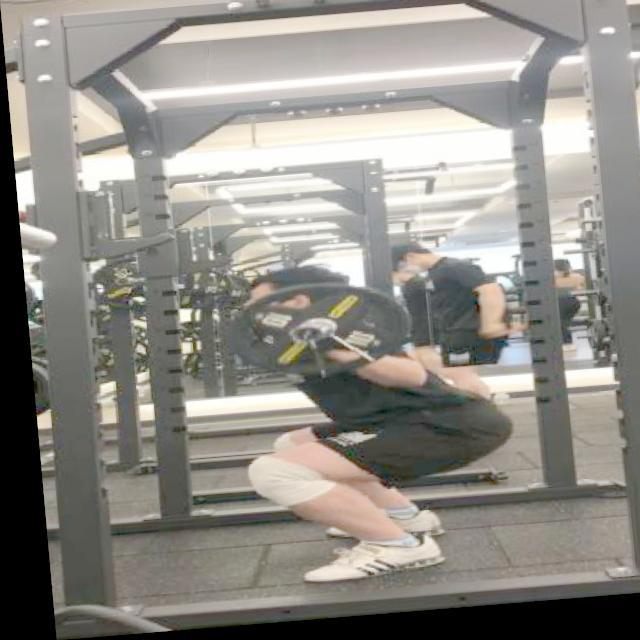barbell: (224, 277, 412, 395)
